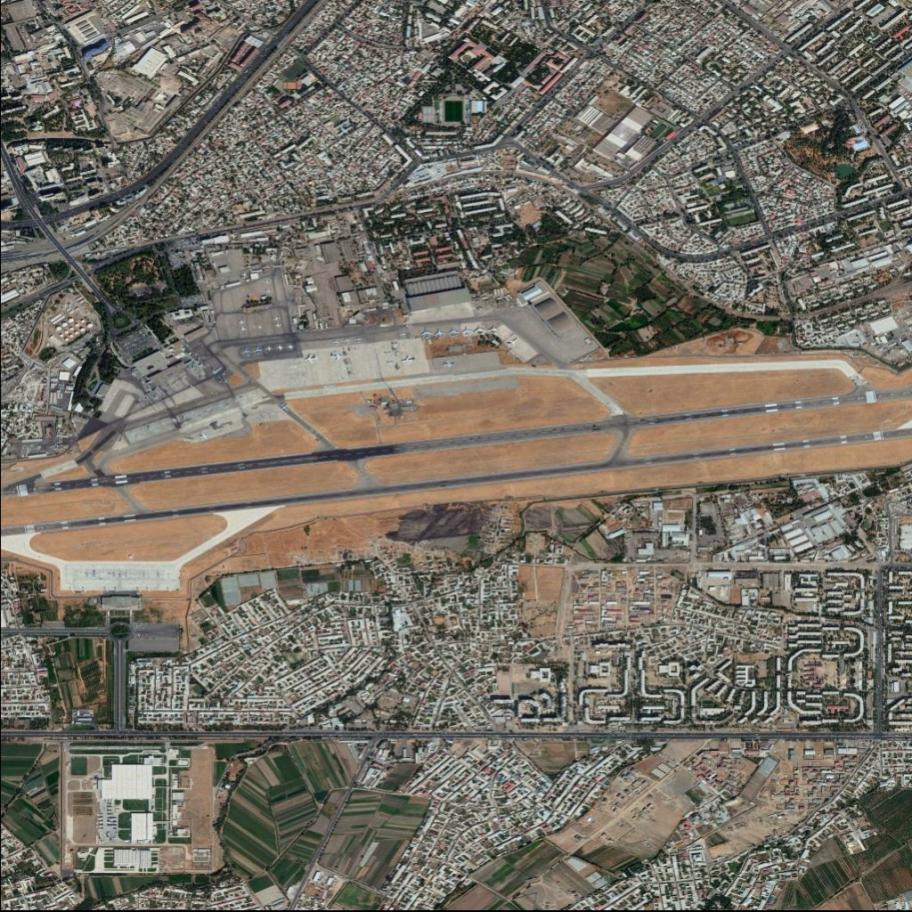plane: (276, 398, 295, 417), (504, 334, 522, 352), (420, 325, 434, 342), (400, 354, 417, 366), (329, 351, 344, 363), (460, 325, 474, 337), (305, 353, 319, 365), (253, 345, 265, 358), (488, 324, 501, 336), (474, 325, 487, 337), (448, 326, 460, 339), (434, 327, 445, 340), (242, 346, 252, 359), (443, 362, 456, 371)
